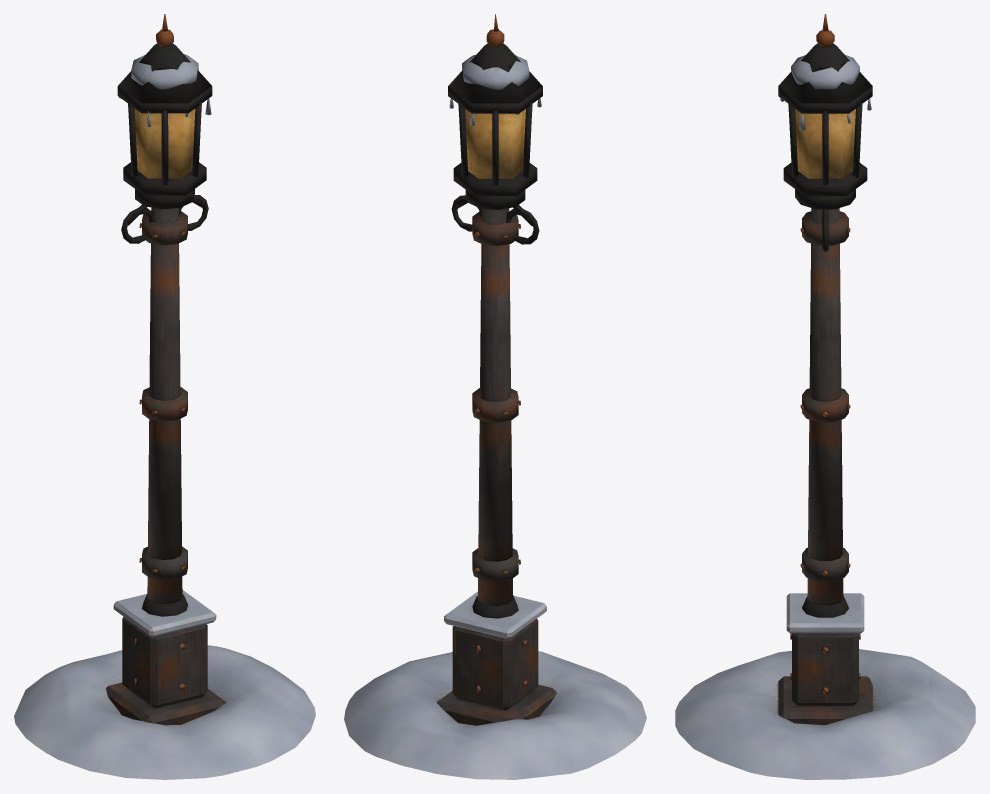
File: lamppost.glb
The picture shows the model from 3 angles, left to right: view 1: azimuth 30°, elevation 25°; view 2: azimuth 150°, elevation 25°; view 3: azimuth 270°, elevation 25°; orthographic projection.
Visible parts, largest first — view 1: model; view 2: model; view 3: model.
Boxes of the visible parts, <box> form: model: <box>14,14,315,779</box>; model: <box>344,14,646,779</box>; model: <box>675,14,975,779</box>.
Bounding box in the file's own units: 1.08 × 2.8 × 1.08.
Materials: 2 (2 with a texture image).
